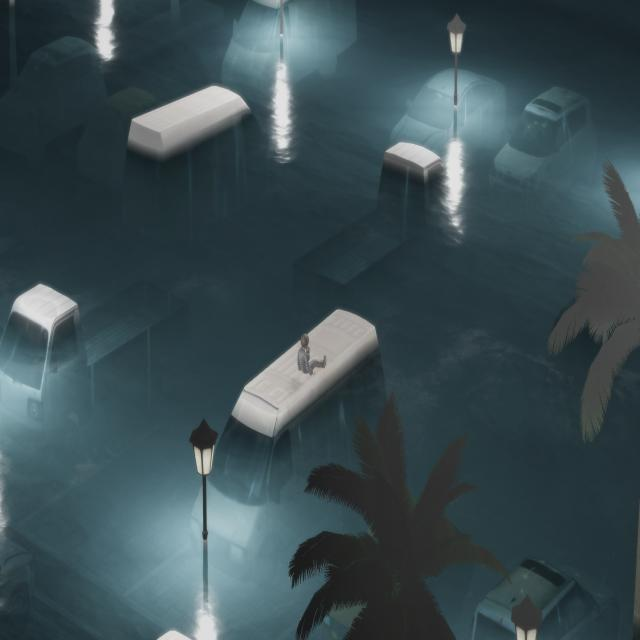Human: (296, 331, 328, 384)
